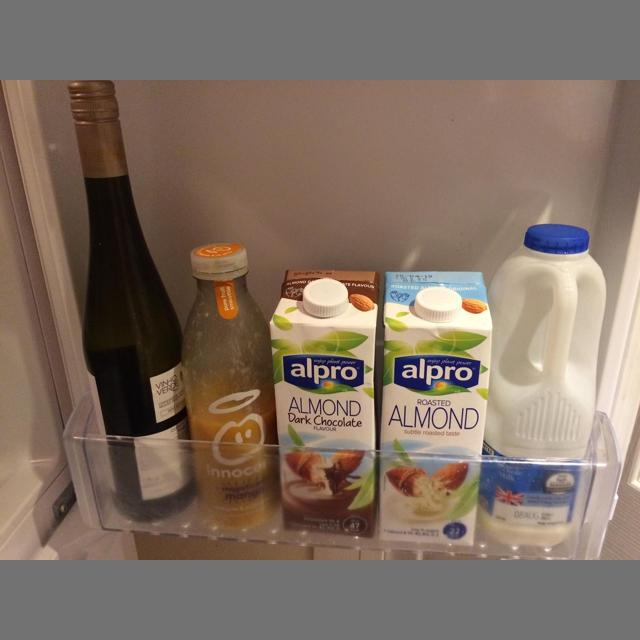litter: (66, 80, 196, 523), (477, 224, 607, 546), (377, 271, 493, 546), (270, 270, 380, 539), (181, 243, 281, 530), (524, 224, 590, 254), (414, 287, 462, 323), (303, 279, 348, 317), (191, 243, 248, 273), (66, 80, 119, 112)
